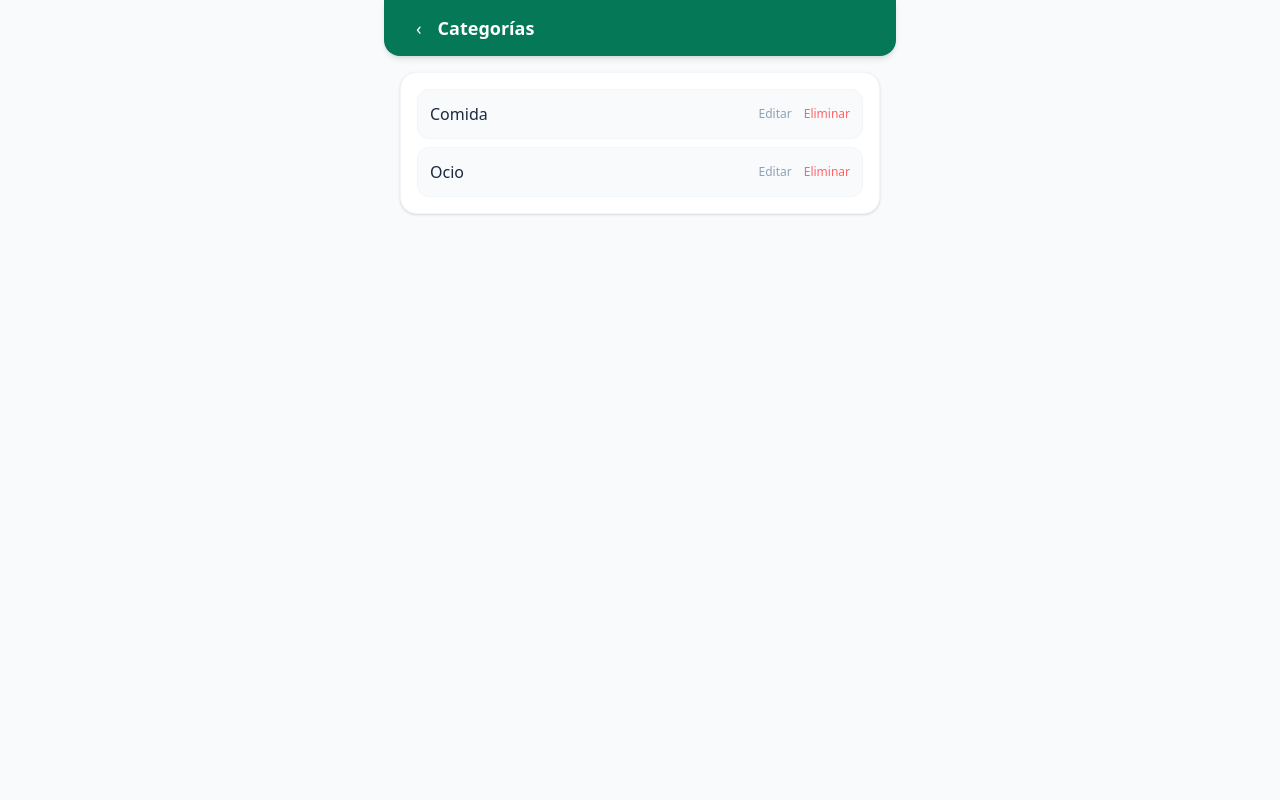
Test case: CategoriasRoute › marca como en uso la categoría con un presupuesto asociado en algún mes
The image size is (1280, 800).
Click the button "Eliminar" in the row of "Comida": coordinates (827, 114) [804,106,850,122]
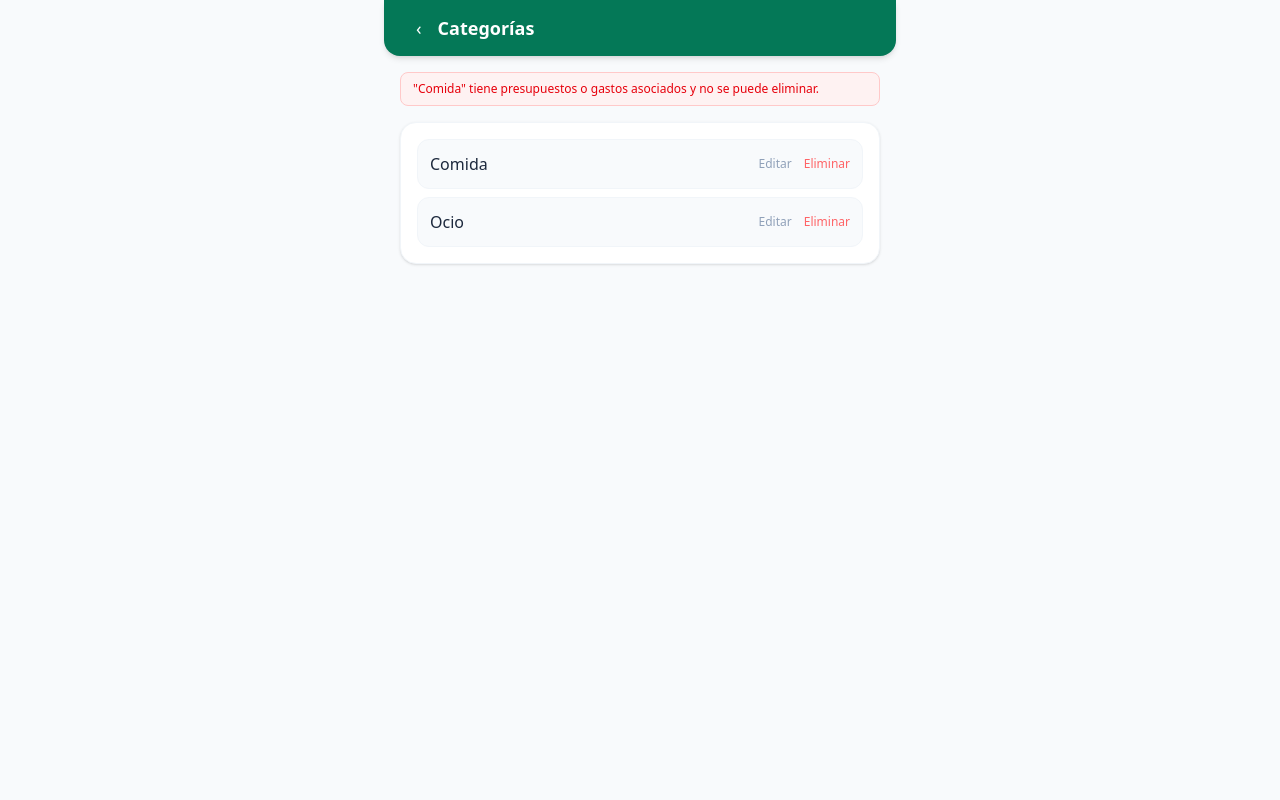
Result: the text "\"Comida\" tiene presupuestos o gastos asociados y no se puede eliminar." is shown at [400,72,880,106]
Click the button "Eliminar" in the row of "Ocio": coordinates (827, 222) [804,214,850,230]
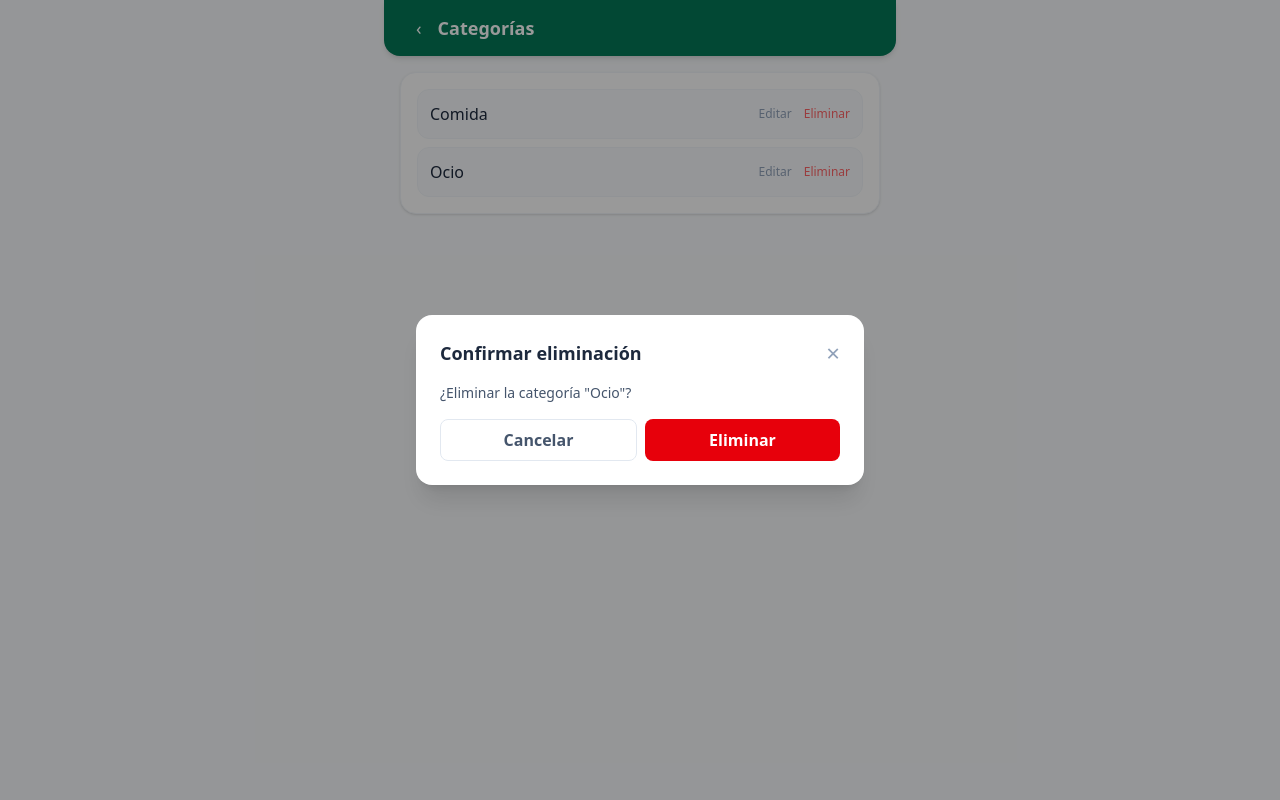
Result: the text "¿Eliminar la categoría \"Ocio\"?" is shown at [440,383,631,402]
